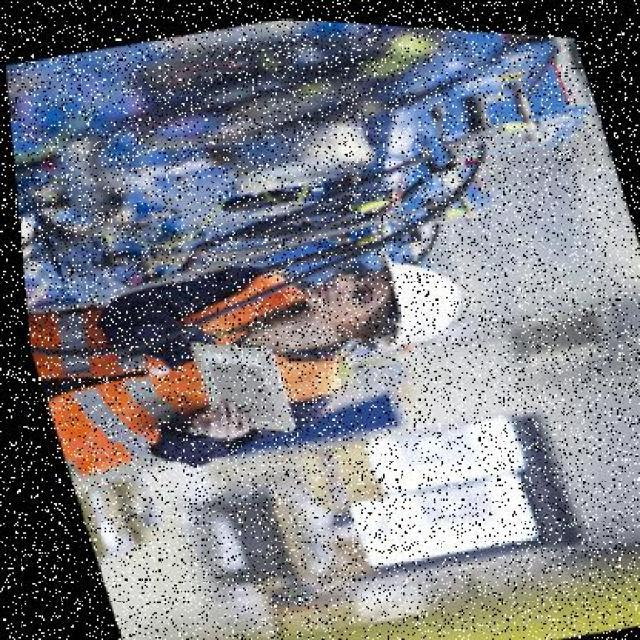helmet: (343, 226, 478, 362)
vest: (17, 241, 359, 491)
